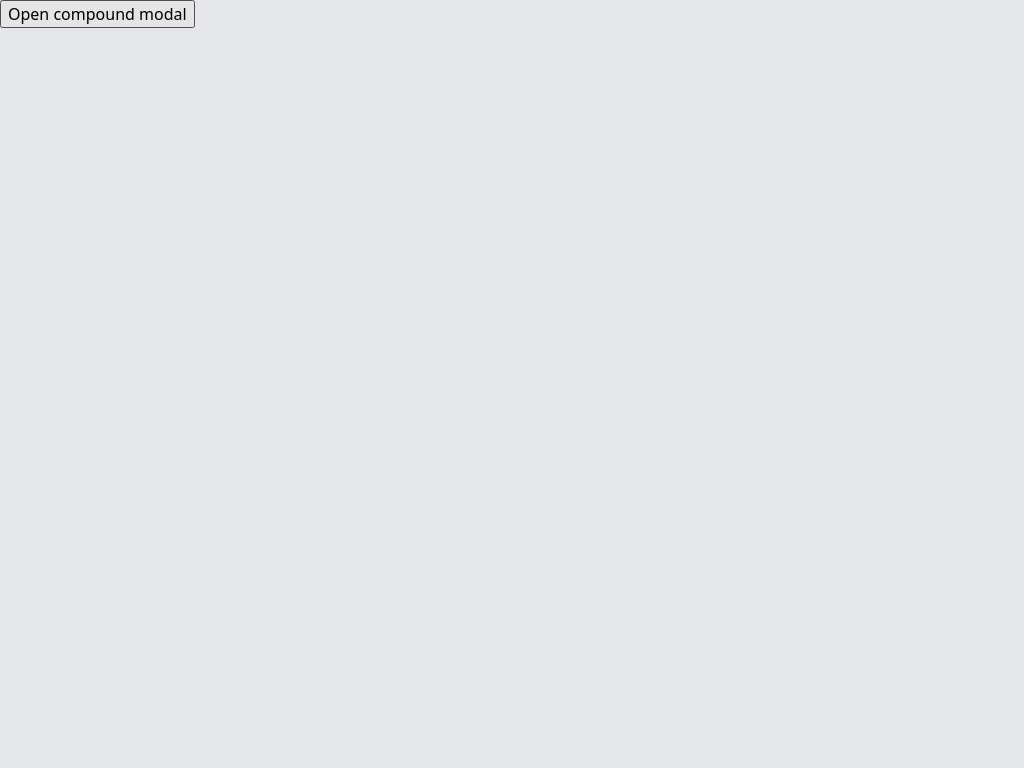
Modal › supports the compound Trigger and Content API
Click the button "Open compound modal" at {"x": 97, "y": 14}, box [0,0,195,28]
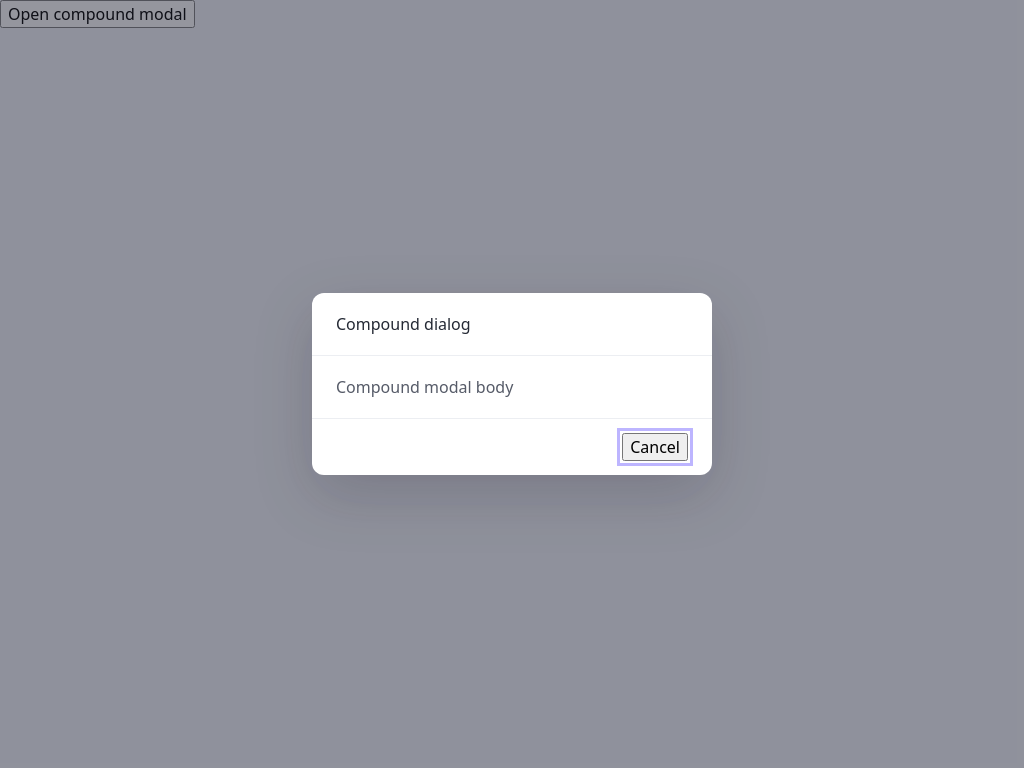
Now the dialog is shown, box [312,293,712,475]
Now the text "Compound modal body" is shown, box [336,376,513,398]
Press Escape
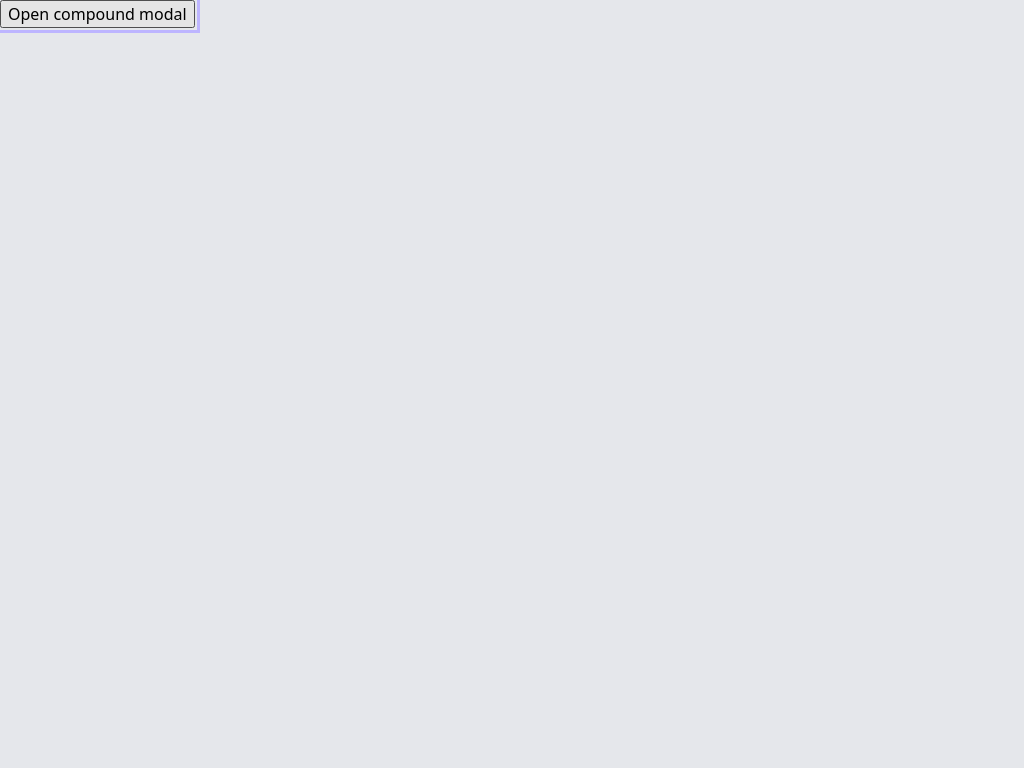
Now the dialog is gone
